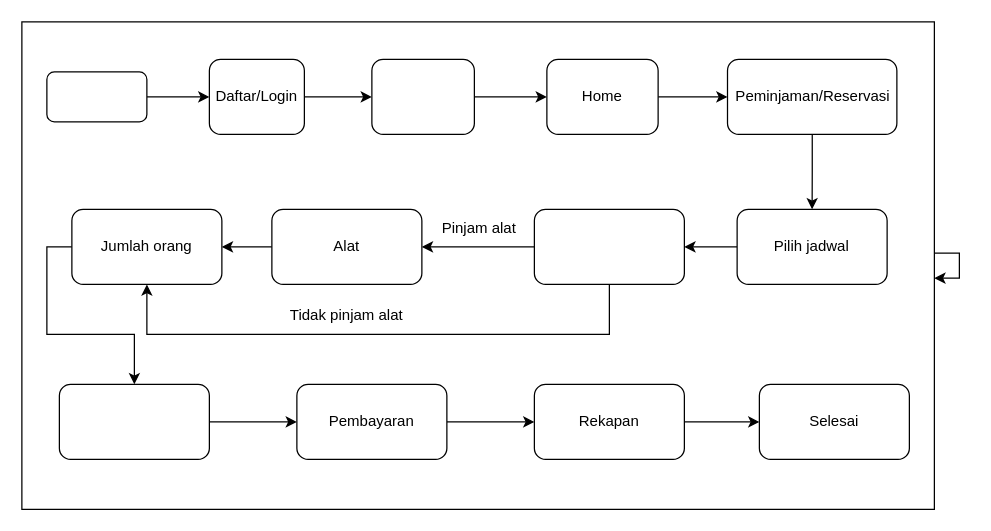
Some shapes in this 991 by 531 pixel diagram are drawn without their labels. The shapes that lost their labels are listed below. From the top down, each one's box as (x1, y1, x2, y2) in pixels, then its label:
(46, 71, 147, 122): User
(371, 58, 474, 134): Kirim
(533, 208, 684, 284): Pilih waktu
(58, 383, 209, 459): Checkout
